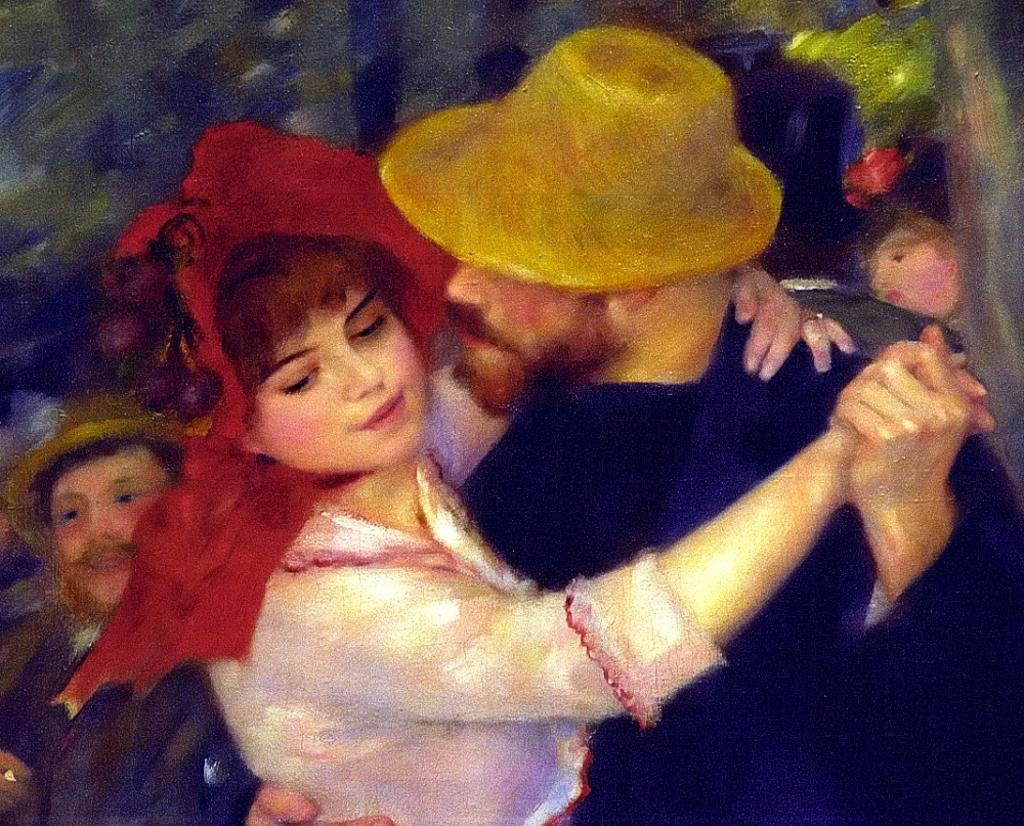Hat: (45, 117, 461, 724), (375, 22, 781, 293), (2, 388, 196, 556)
